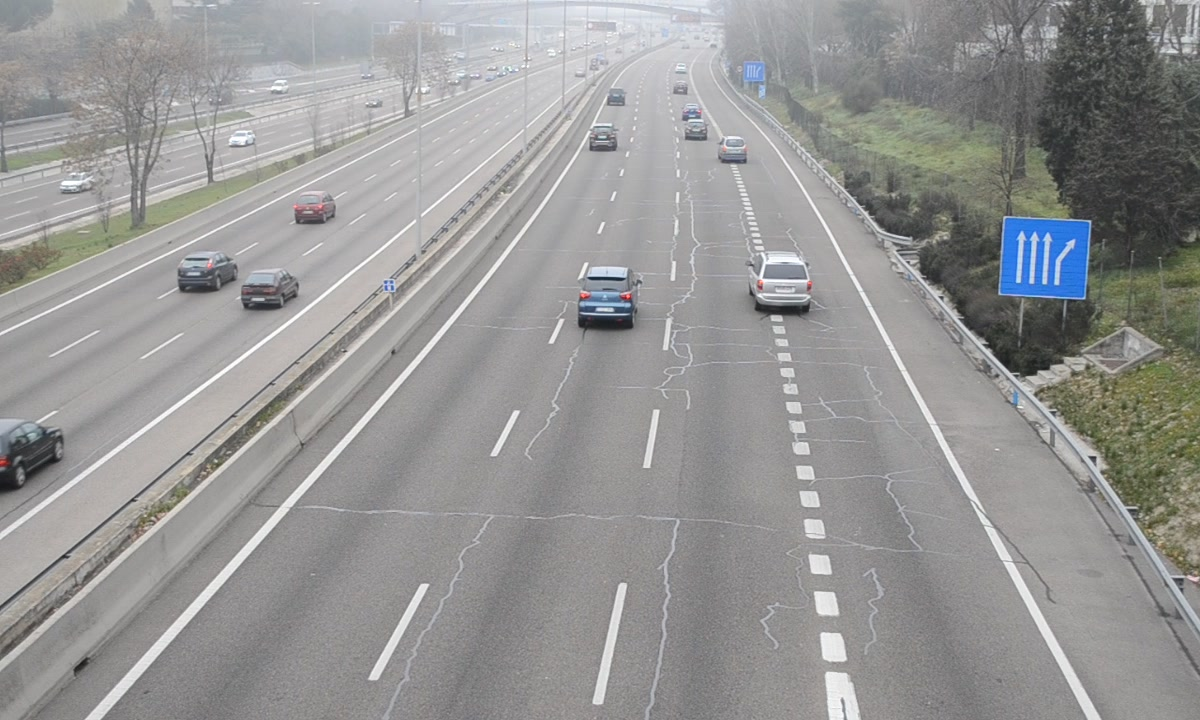car: (751, 252, 813, 308), (578, 267, 638, 323), (587, 122, 617, 152), (719, 134, 747, 163), (682, 118, 709, 141)
